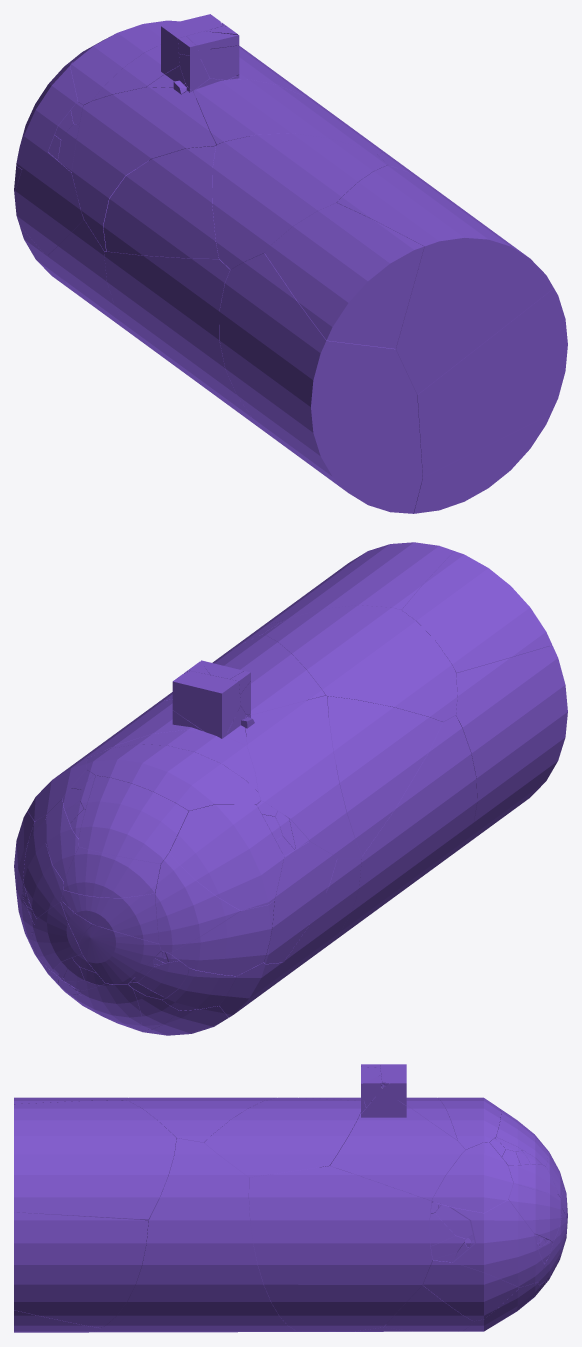
The model's file is Conehead_broken.fbx.
3 views of the same model, one above another, from view 1: azimuth 30°, elevation 25°; view 2: azimuth 150°, elevation 25°; view 3: azimuth 270°, elevation 25° (orthographic). The views are drawn at different scales.
Parts seen in each view (by area): view 1: Cylinder_cell.013, Cylinder_cell.206, Cylinder_cell.015, Cylinder_cell.027, Cylinder_cell.042, Cylinder_cell.005, Cylinder_cell.007, Cylinder_cell.004, Cylinder_cell.014, Cylinder_cell.048, Cylinder_cell.022, Cylinder_cell.218 (+7 smaller); view 2: Cylinder_cell.013, Cylinder_cell.042, Cylinder_cell.005, Cylinder_cell.007, Cylinder_cell.004, Cylinder_cell.027, Cylinder_cell.050, Cylinder_cell.207, Cylinder_cell.206, Cylinder_cell.202, Cylinder_cell.017, Cylinder_cell.022 (+19 smaller); view 3: Cylinder_cell.056, Cylinder_cell.033, Cylinder_cell.206, Cylinder_cell.015, Cylinder_cell.014, Cylinder_cell.045, Cylinder_cell.216, Cylinder_cell.030, Cylinder_cell.042, Cylinder_cell.044, Cylinder_cell.049, Cylinder_cell.207 (+13 smaller).
Boxes of the visible parts, x1,y1,x2,y2 form: Cylinder_cell.013: (219, 253, 422, 513); Cylinder_cell.206: (337, 165, 553, 394); Cylinder_cell.015: (417, 288, 567, 477); Cylinder_cell.027: (264, 203, 424, 348); Cylinder_cell.042: (212, 133, 387, 269); Cylinder_cell.005: (104, 251, 272, 437); Cylinder_cell.007: (71, 87, 216, 251); Cylinder_cell.004: (103, 146, 218, 258); Cylinder_cell.014: (193, 79, 383, 154); Cylinder_cell.048: (413, 414, 550, 513); Cylinder_cell.022: (15, 152, 83, 255); Cylinder_cell.218: (47, 199, 141, 341); Cylinder_cell.013: (455, 645, 567, 852); Cylinder_cell.042: (262, 605, 457, 721); Cylinder_cell.005: (285, 715, 477, 947); Cylinder_cell.007: (245, 695, 362, 858); Cylinder_cell.004: (327, 696, 442, 855); Cylinder_cell.027: (402, 551, 551, 672); Cylinder_cell.050: (169, 804, 283, 910); Cylinder_cell.207: (86, 744, 260, 811); Cylinder_cell.206: (252, 542, 453, 633); Cylinder_cell.202: (78, 775, 188, 863); Cylinder_cell.017: (106, 671, 257, 791); Cylinder_cell.022: (264, 841, 336, 963); Cylinder_cell.056: (249, 1166, 432, 1331); Cylinder_cell.033: (92, 1138, 302, 1332); Cylinder_cell.206: (14, 1100, 176, 1219); Cylinder_cell.015: (14, 1212, 148, 1327); Cylinder_cell.014: (204, 1097, 364, 1177); Cylinder_cell.045: (320, 1087, 465, 1201); Cylinder_cell.216: (433, 1199, 544, 1287); Cylinder_cell.030: (432, 1142, 513, 1212); Cylinder_cell.042: (126, 1097, 276, 1142); Cylinder_cell.044: (423, 1260, 519, 1321); Cylinder_cell.049: (384, 1285, 472, 1331); Cylinder_cell.207: (437, 1097, 501, 1149).
Bounding box in the file's own units: 2.06 × 2.37 × 4.85.
